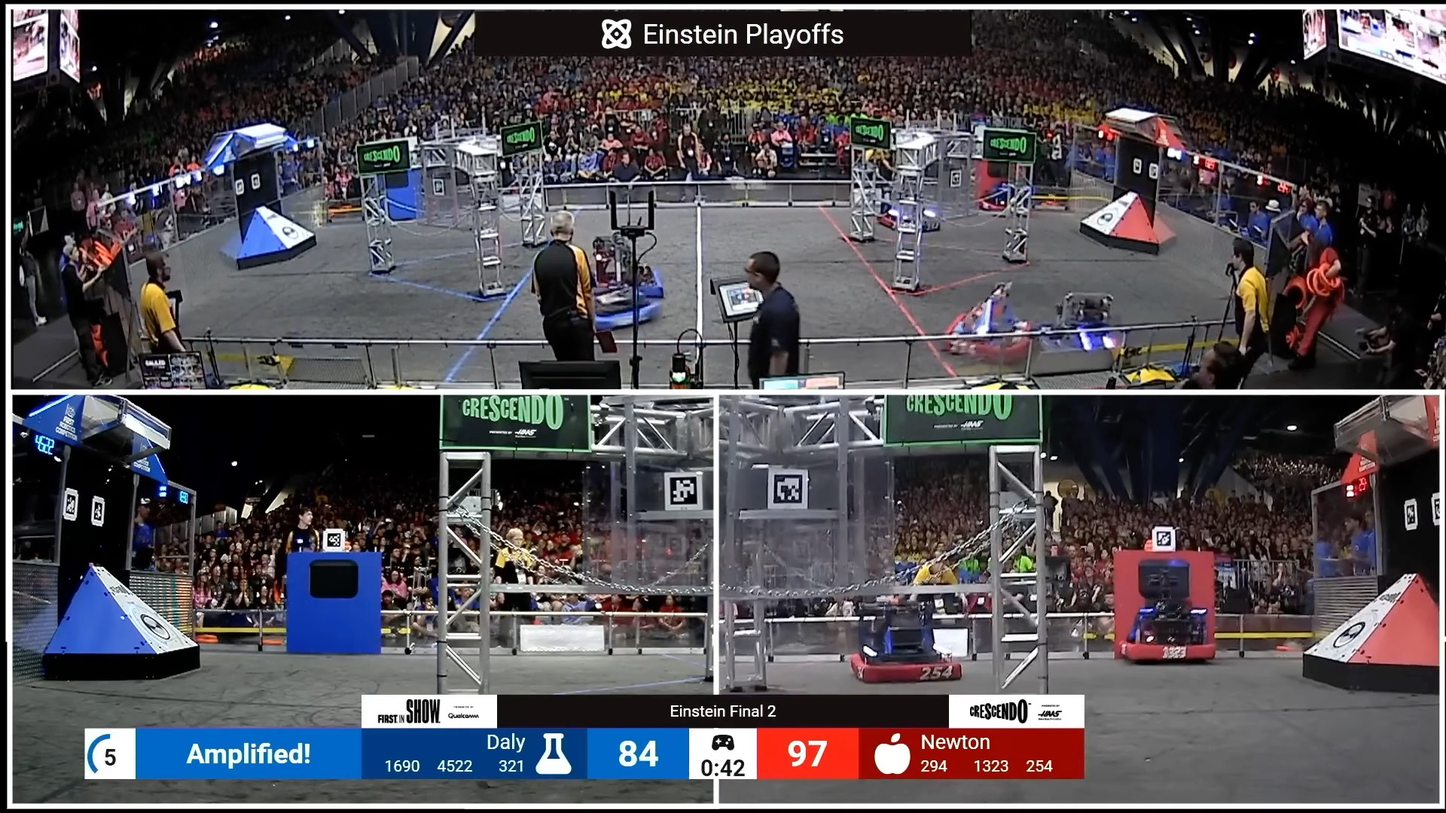bumpers: (1107, 606, 1226, 670), (842, 642, 963, 689), (940, 310, 1033, 363), (578, 283, 676, 331), (1035, 318, 1124, 361), (869, 208, 952, 238)
